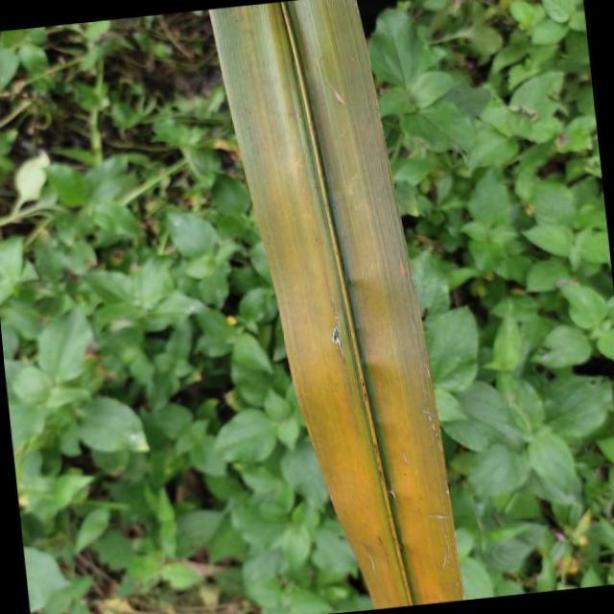Megnesium: (205, 0, 462, 609)
